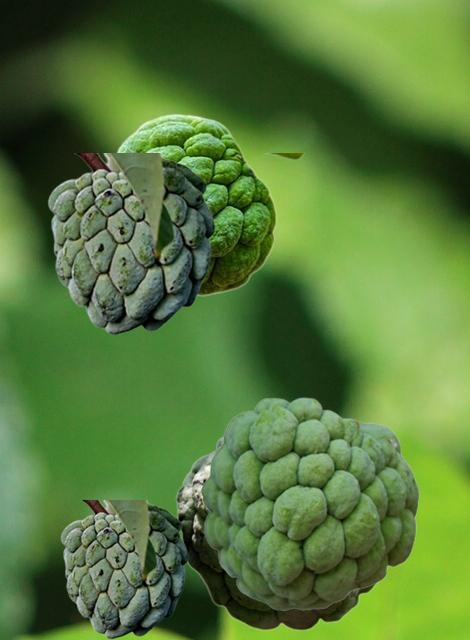atis: (47, 153, 303, 334), (200, 397, 418, 609), (175, 408, 378, 630), (114, 113, 276, 295), (60, 500, 190, 638)
